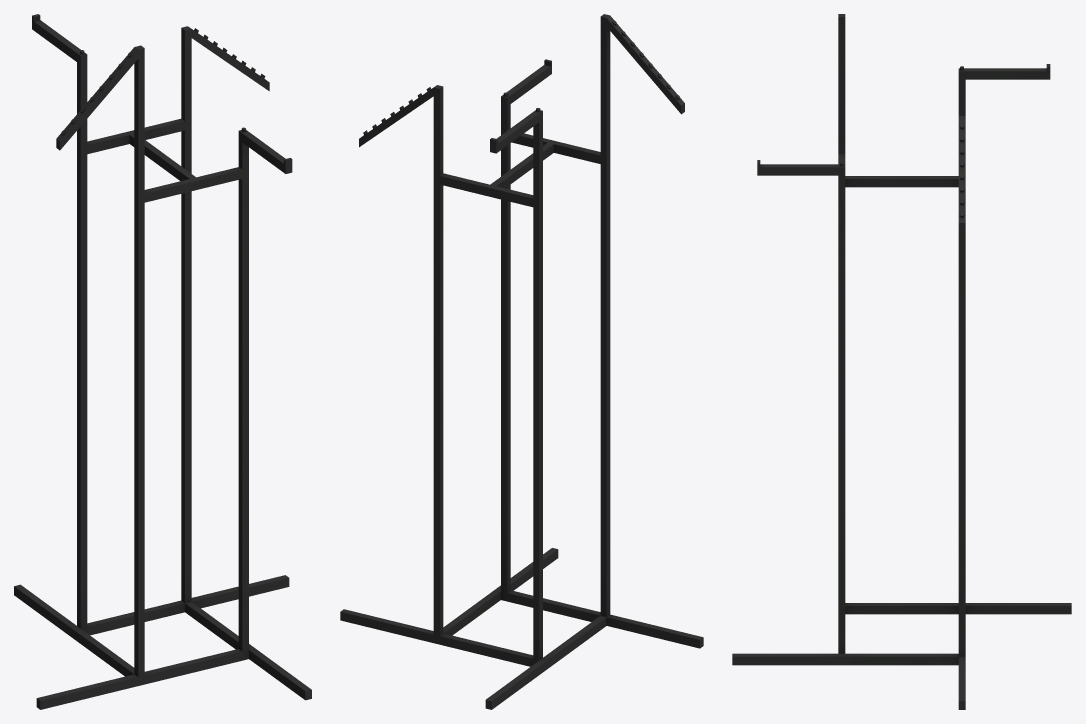
File: mall_display_06.glb
3 views of the same model, side by side, from view 1: azimuth 30°, elevation 25°; view 2: azimuth 150°, elevation 25°; view 3: azimuth 270°, elevation 25° (orthographic). The views are drawn at different scales.
Parts seen in each view (by area): view 1: mall_display_06; view 2: mall_display_06; view 3: mall_display_06.
Part boxes in pixels (x1,y1,x2,y2): mall_display_06: (14, 14, 311, 709); mall_display_06: (340, 14, 703, 709); mall_display_06: (732, 14, 1071, 709).
Bounding box in the file's own units: 0.6858 × 1.33 × 0.6858.
1 material, 1 textured.
